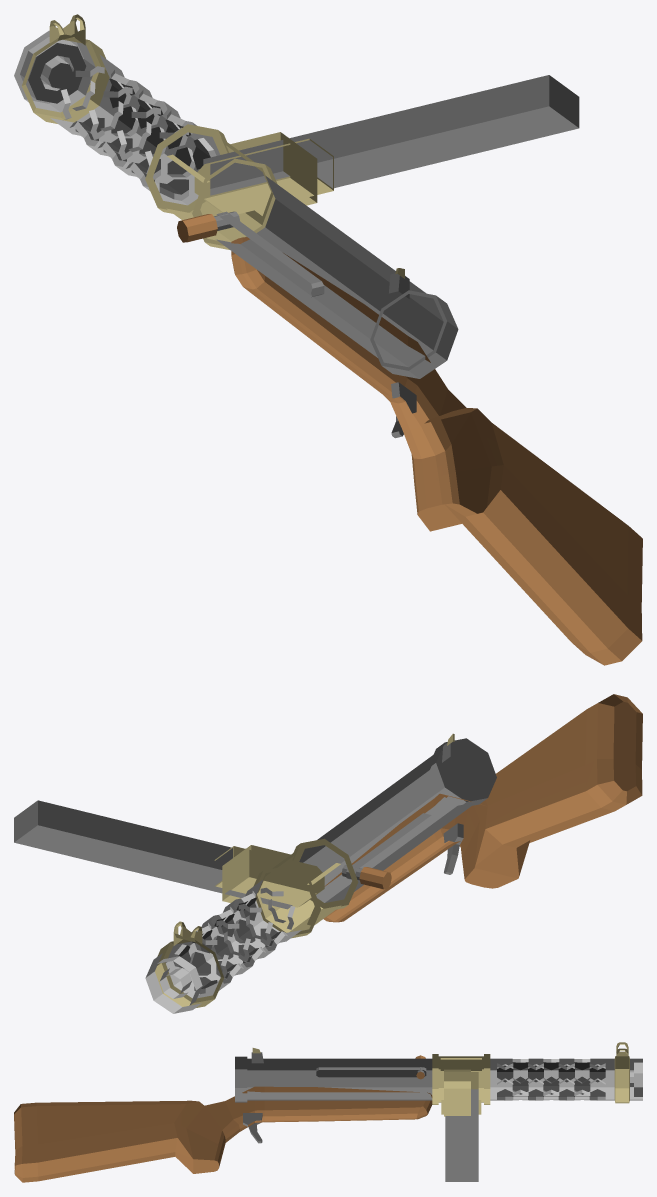
Rendered from lchstrgn.glb.
The picture shows the model from 3 angles, top to bottom: view 1: azimuth 30°, elevation 25°; view 2: azimuth 150°, elevation 25°; view 3: azimuth 270°, elevation 25°; orthographic projection. The views are drawn at different scales.
Parts seen in each view (by area): view 1: LanchesterGun; view 2: LanchesterGun; view 3: LanchesterGun.
Part boxes in pixels (left/top/right/bottom): LanchesterGun: left=14, top=14, right=642, bottom=665; LanchesterGun: left=14, top=694, right=642, bottom=1013; LanchesterGun: left=14, top=1042, right=642, bottom=1182.
Size of the model in its own units: 431 by 241 by 1020.
